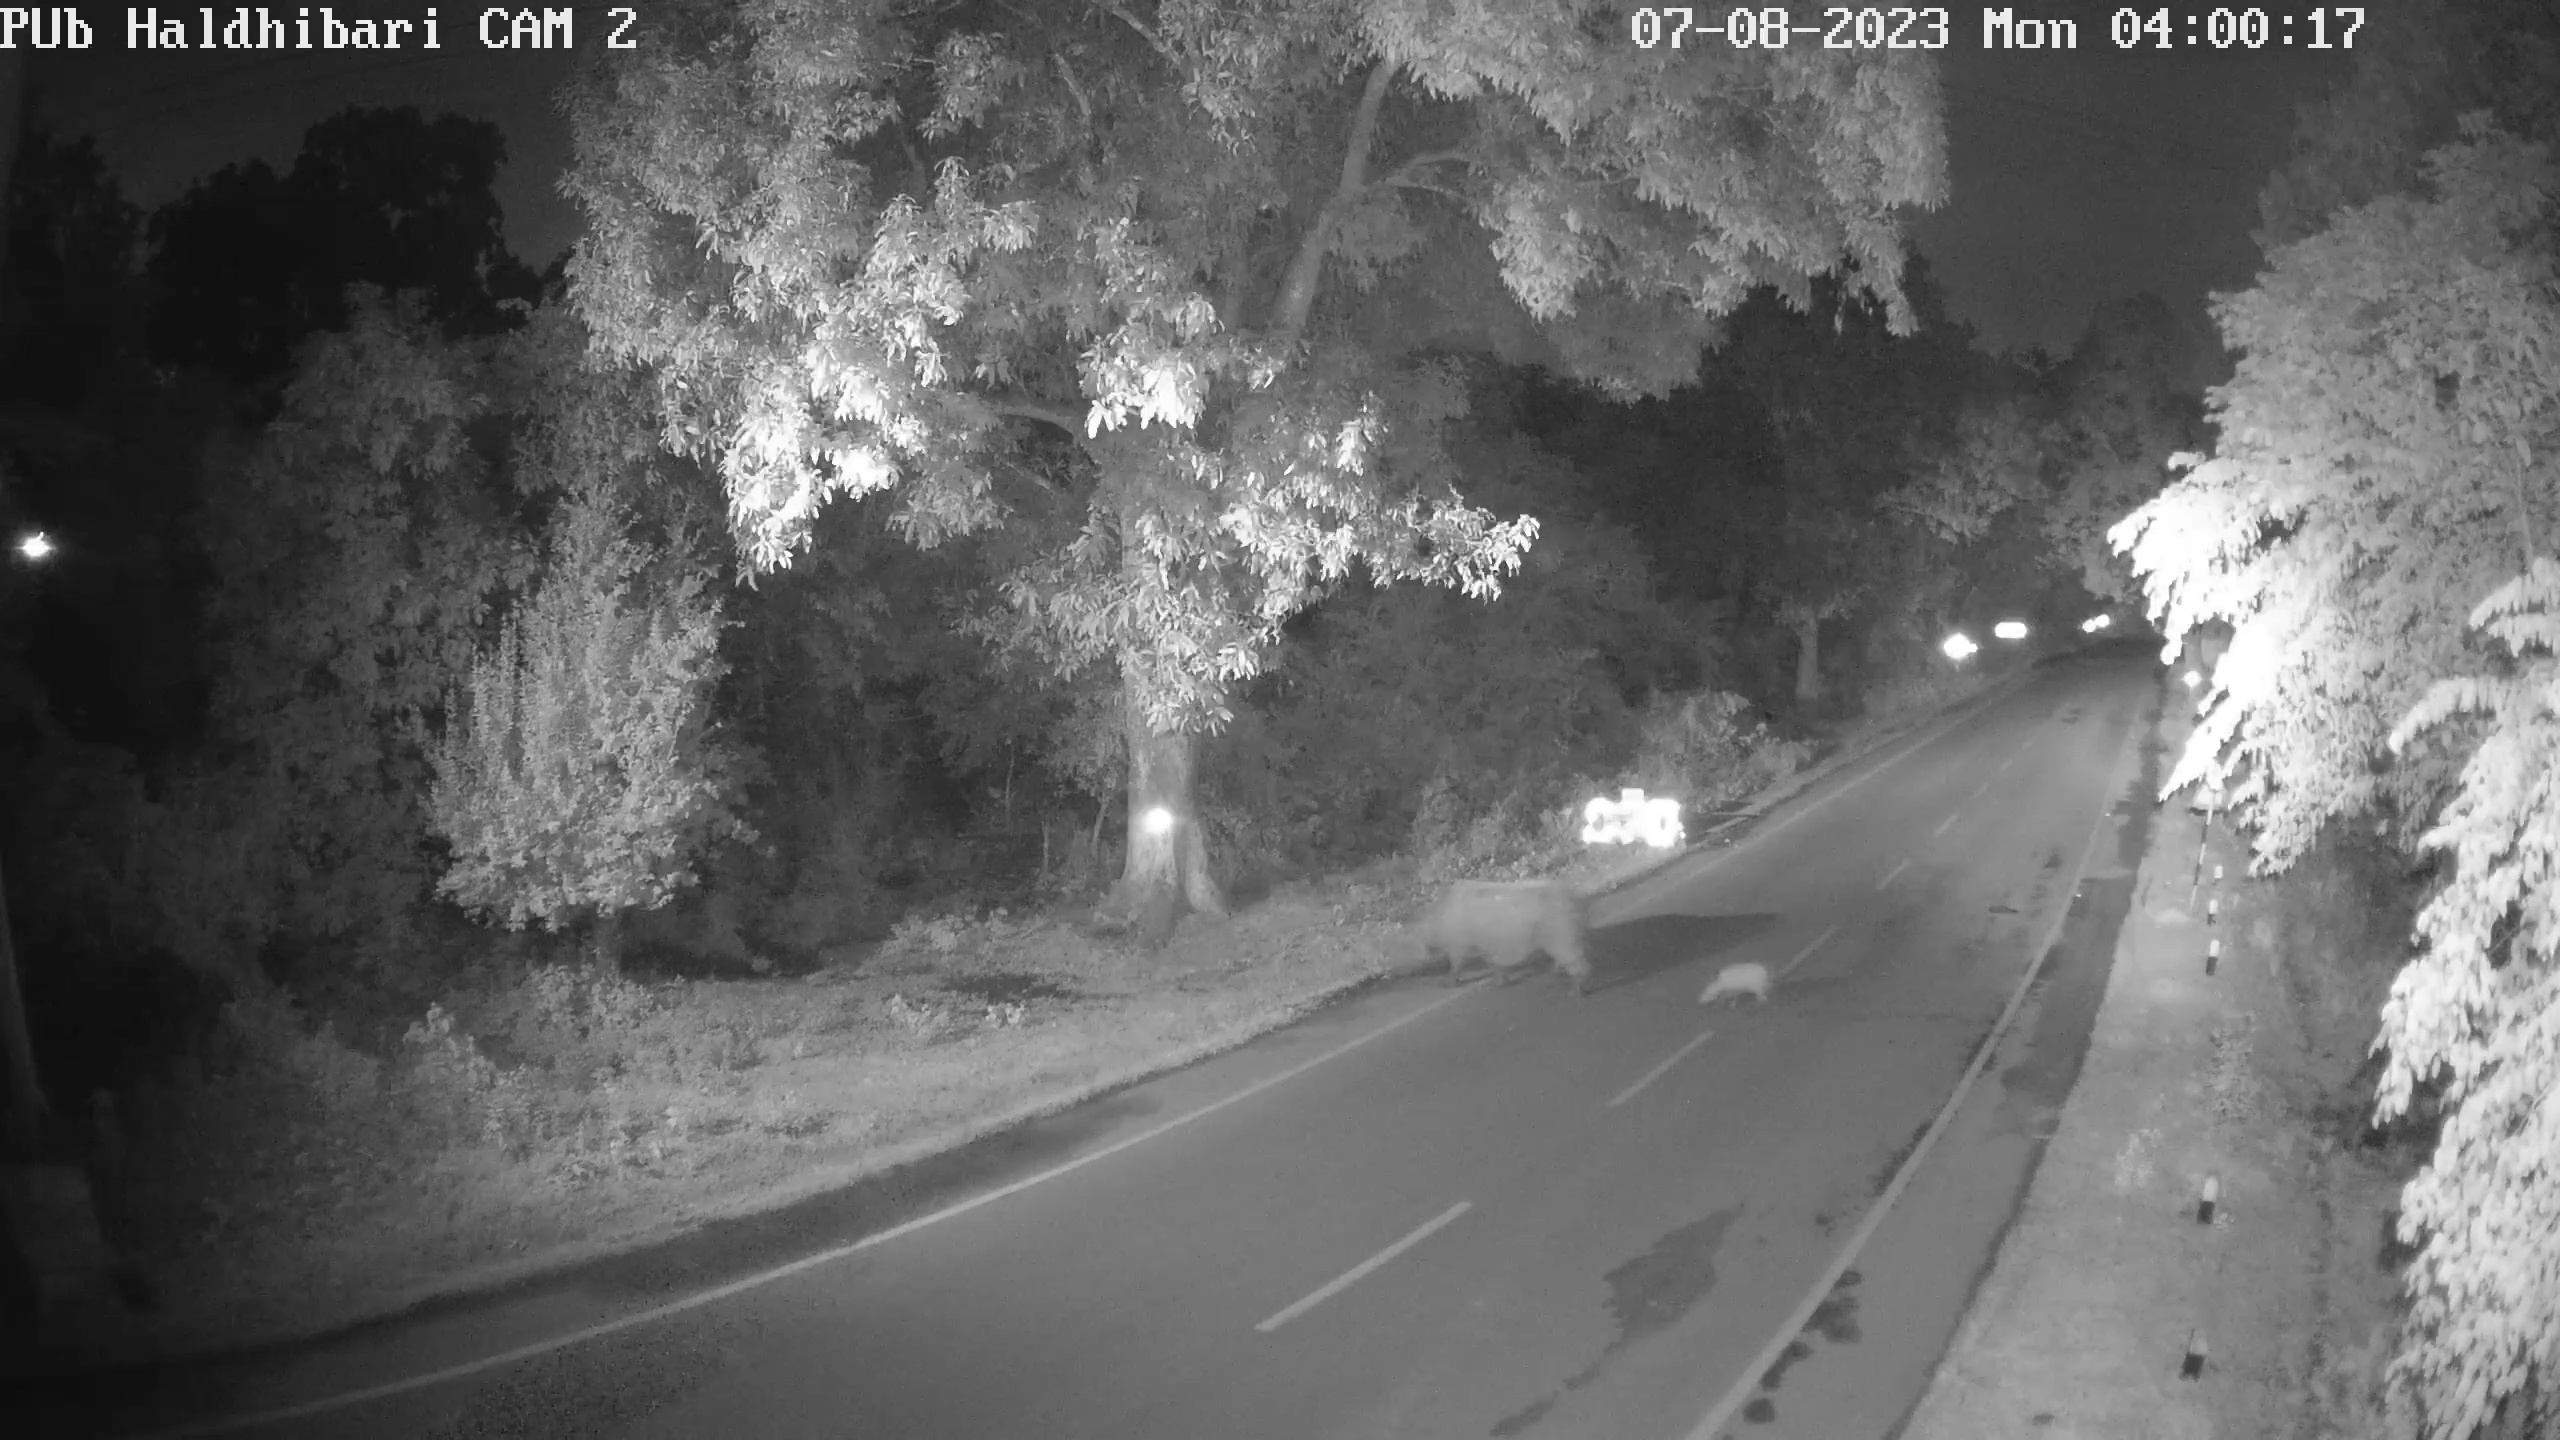rhinos: (1410, 860, 1588, 985), (1690, 949, 1779, 1007)
